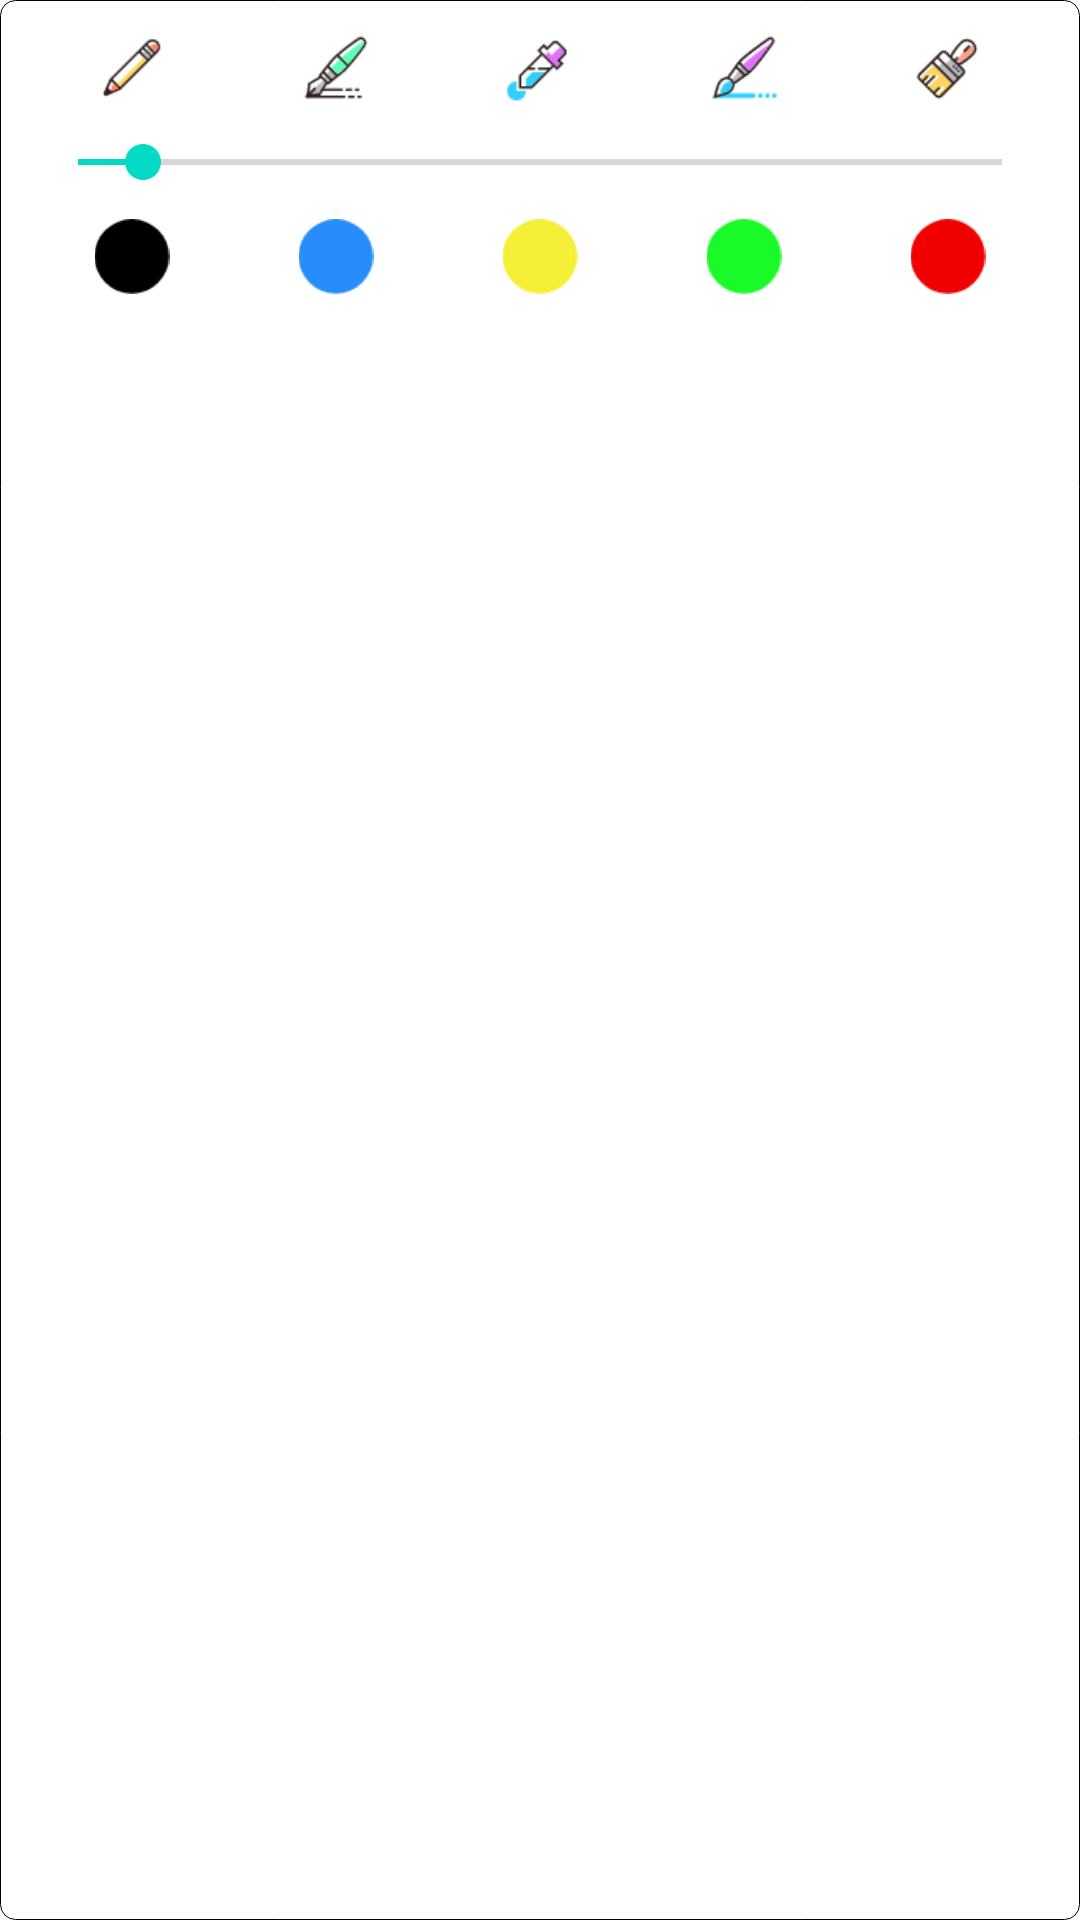

Named icons in this screenshot (1080x1920) and their centers, [x,y]:
brush: [744,67]
brush wide: [947,68]
dropper: [537,70]
fountain pen: [336,67]
pencil: [132,68]
